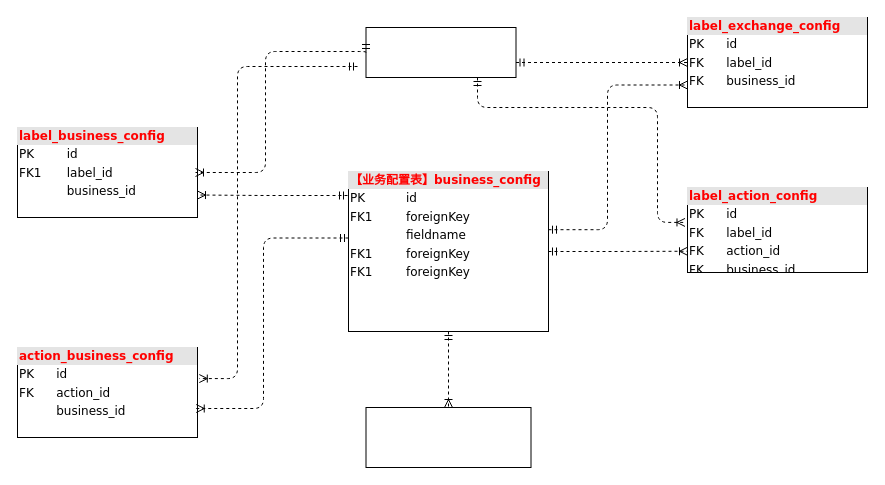
Some shapes in this 885 by 485 pixel diagram are drawn without their labels. Here are the shapes that lost their labels. From the top down, the box of each, then its label:
(365, 26, 516, 78): 【标签配置表】 audit_label_config PK id
(365, 406, 531, 468): 【动作配置表】 action_config PK id
